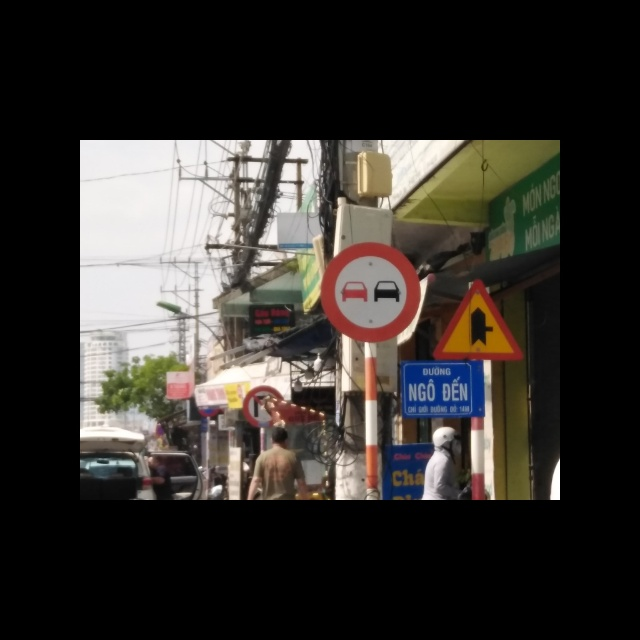Cấm vượt: (319, 244, 424, 343)
Giao nhau với đường không ưu tiên: (432, 274, 523, 361)
